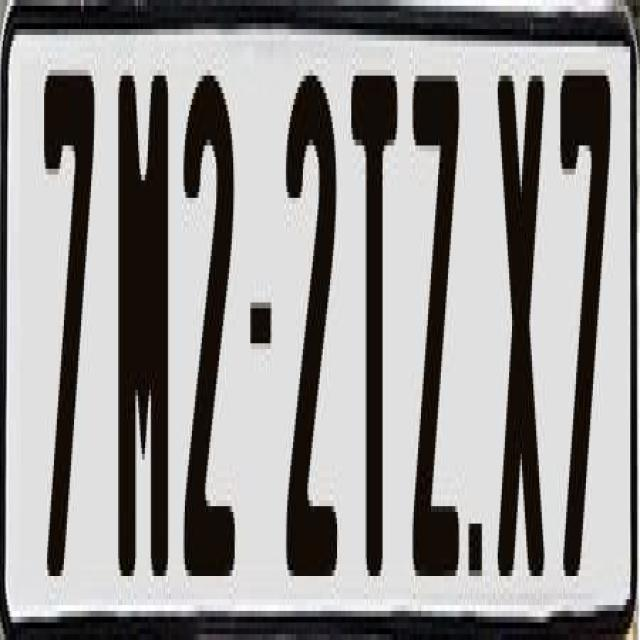2: (180, 58, 240, 594), (282, 64, 332, 570)
7: (40, 58, 94, 576), (559, 76, 609, 582)
M: (116, 70, 168, 582)
T: (350, 76, 400, 594)
X: (495, 64, 549, 582)
Z: (410, 58, 460, 564)
